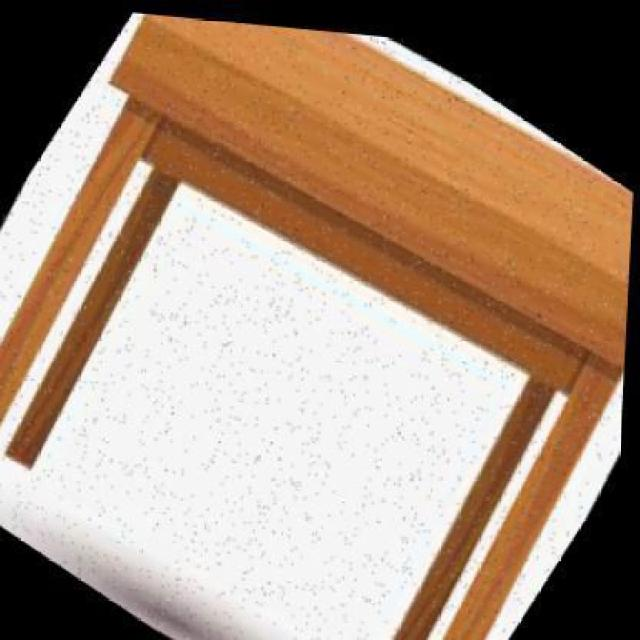tables: (0, 11, 634, 638)
